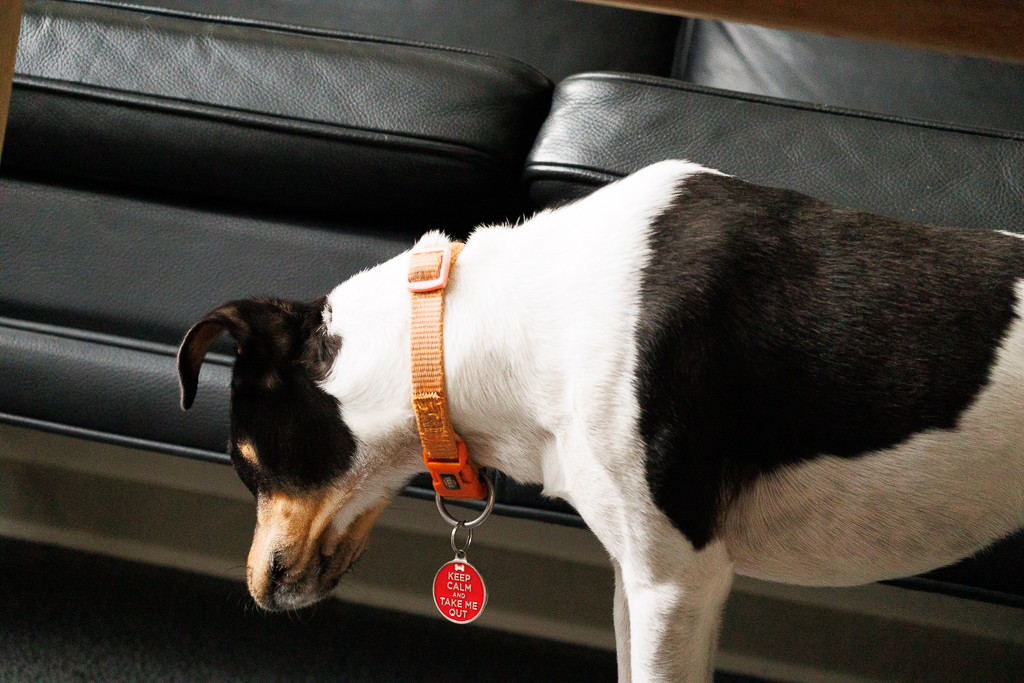Dog: (163, 146, 1024, 683)
